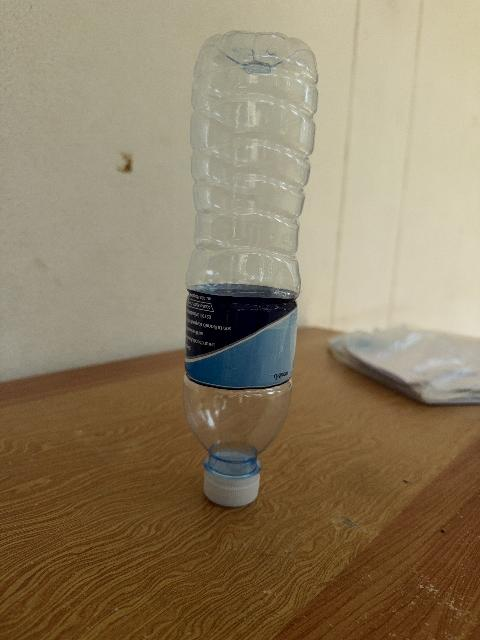bottle: (183, 32, 316, 506)
